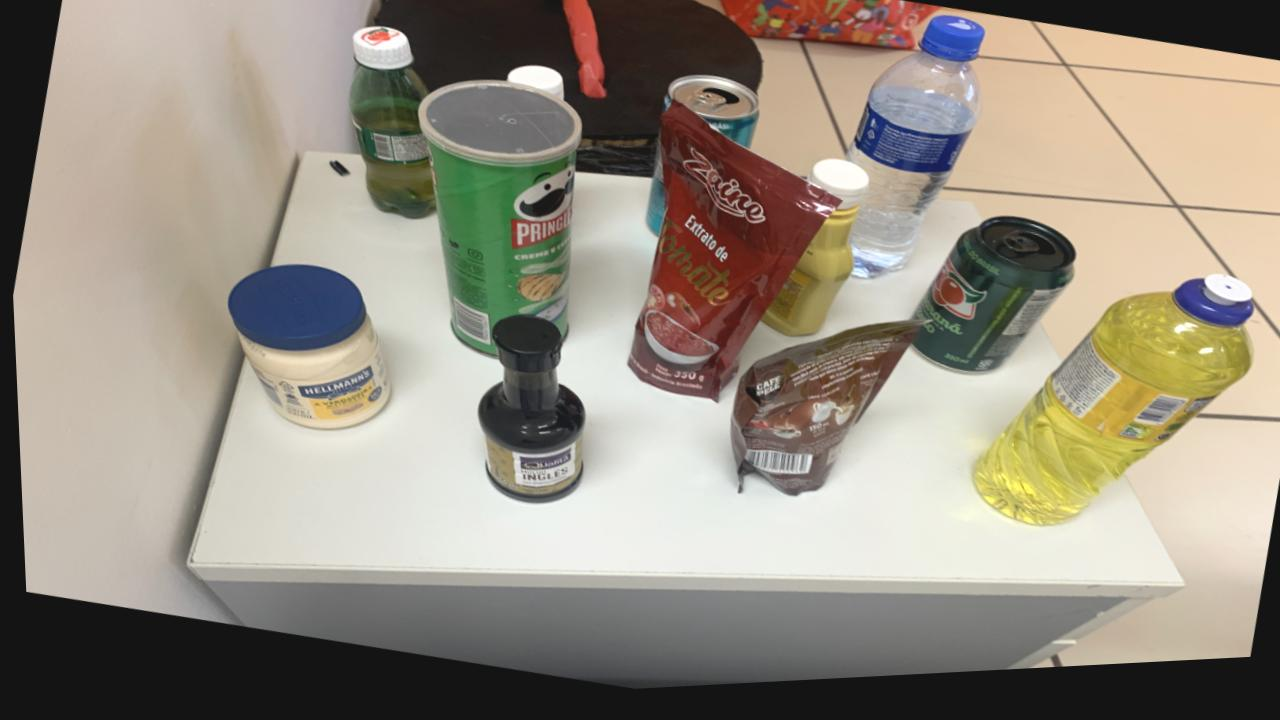Coffee-Pantry_Items: (725, 330, 917, 504)
Detergent-Cleanup_Items: (968, 288, 1249, 537)
English_Sauce-Pantry_Items: (472, 320, 581, 509)
Guarana-Drinks: (347, 30, 434, 223)
Guarana_Can-Drinks: (910, 227, 1073, 383)
Mayonnaise-Pantry_Items: (224, 267, 386, 433)
Mustard-Pantry_Items: (758, 168, 866, 345)
Pringles-Snacks: (416, 85, 581, 361)
Tea-Drinks: (662, 83, 758, 156), (643, 159, 664, 241)
Tomato_Sauce-Pantry_Items: (623, 109, 837, 408)
Water_Bottle-Drinks: (844, 27, 981, 287)
